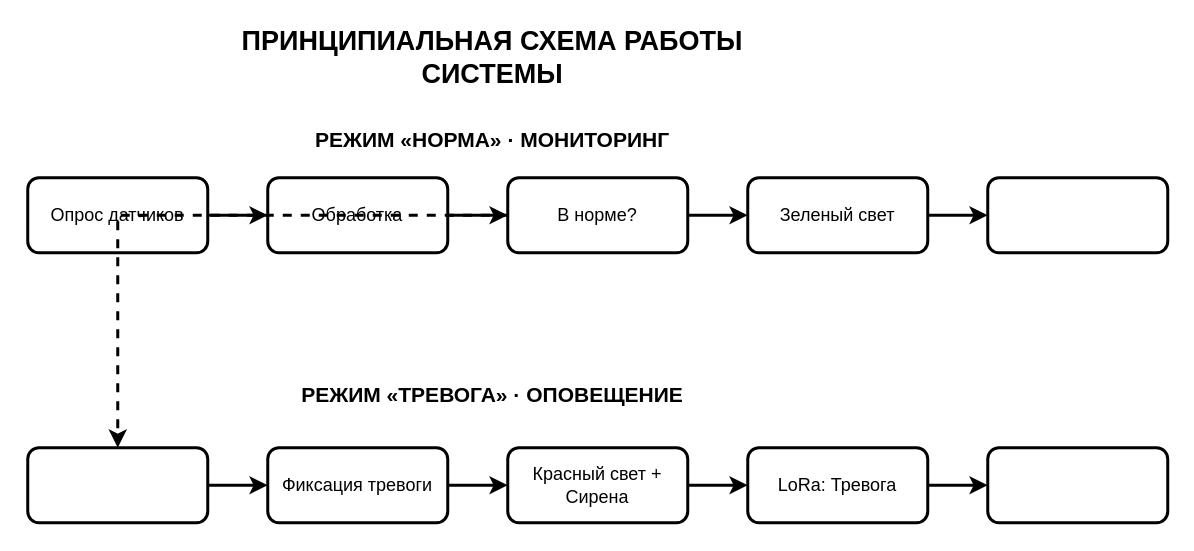
Image size: 1194x551. Some labels were removed from this diagram. The centre of each missing label's shape, as x and y in pixels:
"LoRa: Всё ОК" goes at (x=1077, y=215).
"Вибрация + Звук" goes at (x=1077, y=485).
"Превышен порог" goes at (x=117, y=485).
